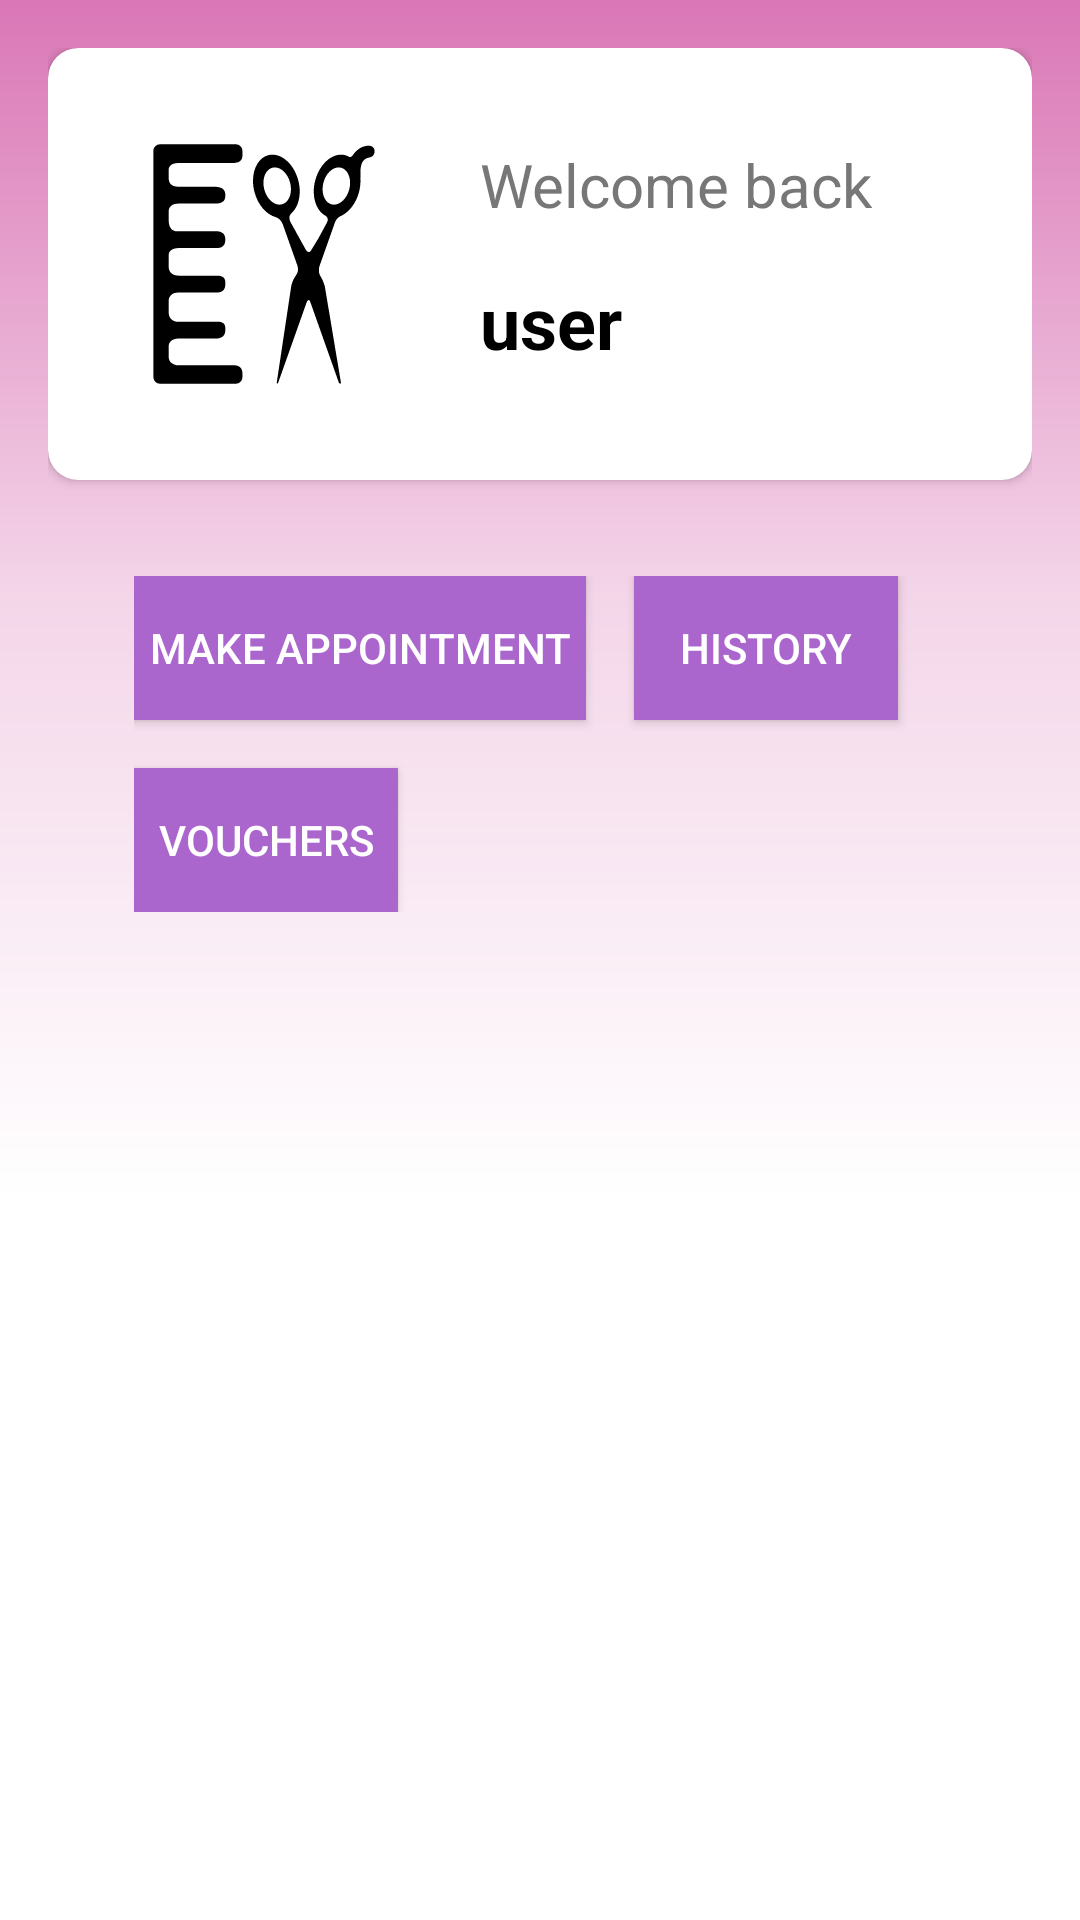

Icons on this 1080w x 1920h Android screen, each with its box as (x1, y1, x2, y2):
hair: (153, 144, 375, 384)
